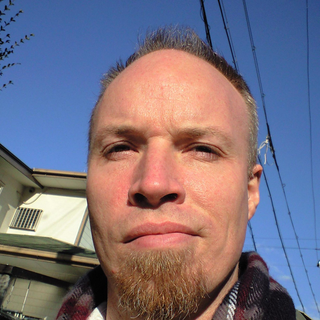eye: (178, 139, 225, 163), (100, 136, 143, 162)
